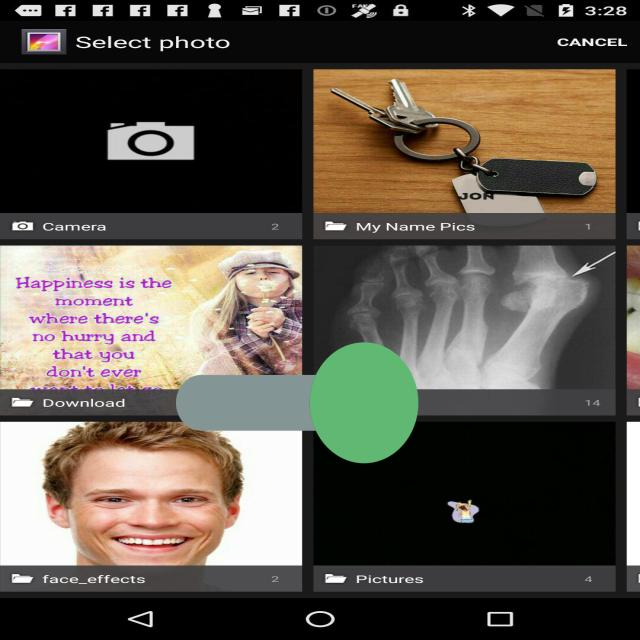social proof: (176, 268, 418, 538)
